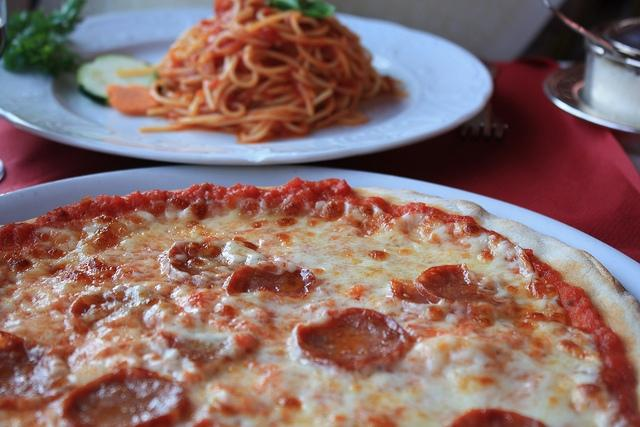carrot: (108, 85, 162, 116)
cucumber: (75, 53, 160, 106)
